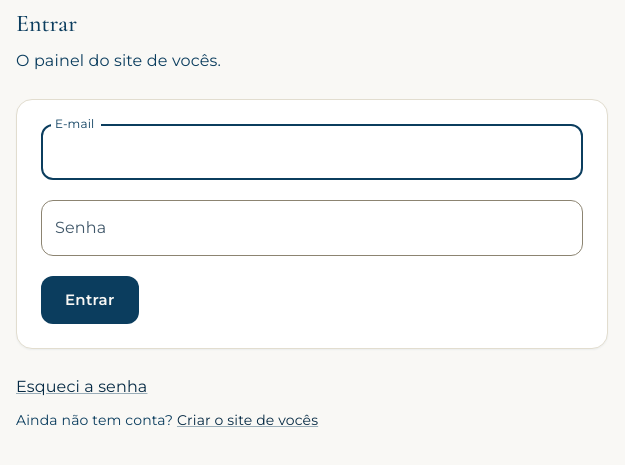
Test: entrar › a recusa do servidor aparece NO CAMPO, e não num alerta no topo
The image size is (625, 465).
In the field labelled "E-mail": (312, 152) [41,124,583,180], type "a@b.com"
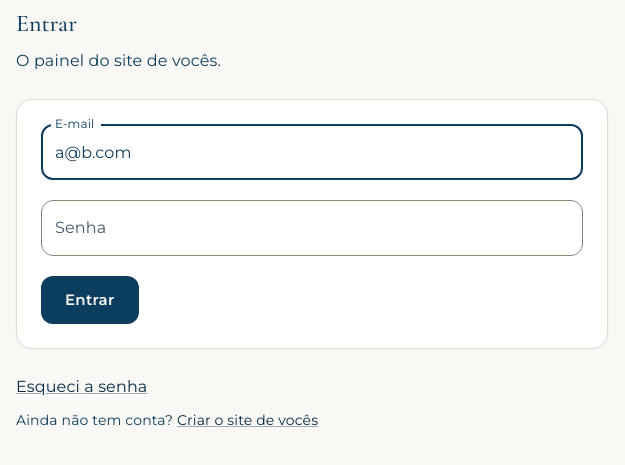
In the password field labelled "Senha": (312, 228) [41,200,583,256], type "qualquer coisa"
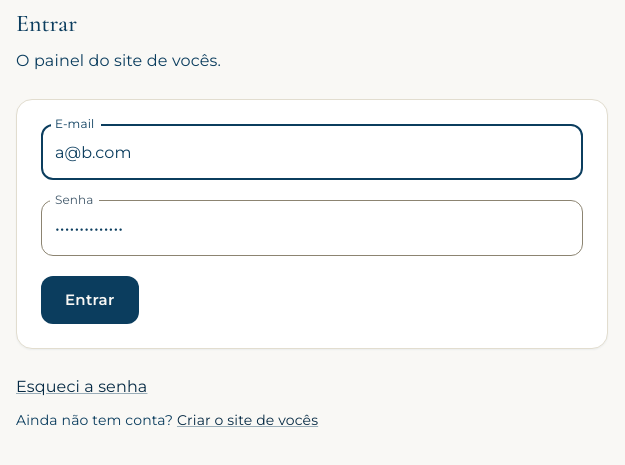
Click the button "Entrar": click(90, 300) [41,276,138,324]
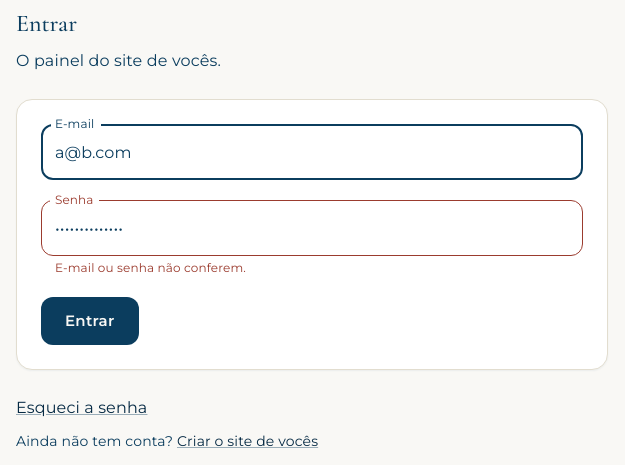
Now the text "E-mail ou senha não conferem." is shown, box [55,260,246,275]
